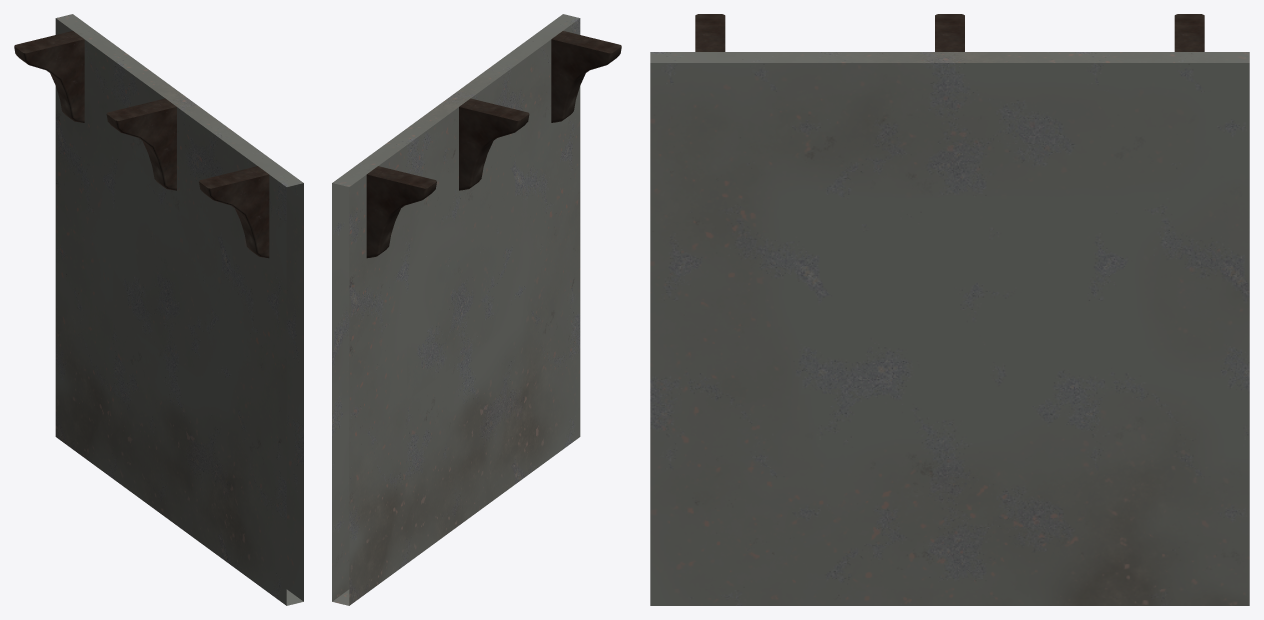
File: Wall_Plain_Support.fbx
3 renders of one model, left to right at view 1: azimuth 30°, elevation 25°; view 2: azimuth 150°, elevation 25°; view 3: azimuth 270°, elevation 25°, orthographic. The views are drawn at different scales.
Visible parts, largest first — view 1: Wall_Plain_Support; view 2: Wall_Plain_Support; view 3: Wall_Plain_Support.
Part boxes in pixels (x1,y1,x2,y2): Wall_Plain_Support: (14,14,303,605); Wall_Plain_Support: (332,14,621,605); Wall_Plain_Support: (650,14,1249,605).
Bounding box in the file's own units: 38.58 × 200 × 200.
